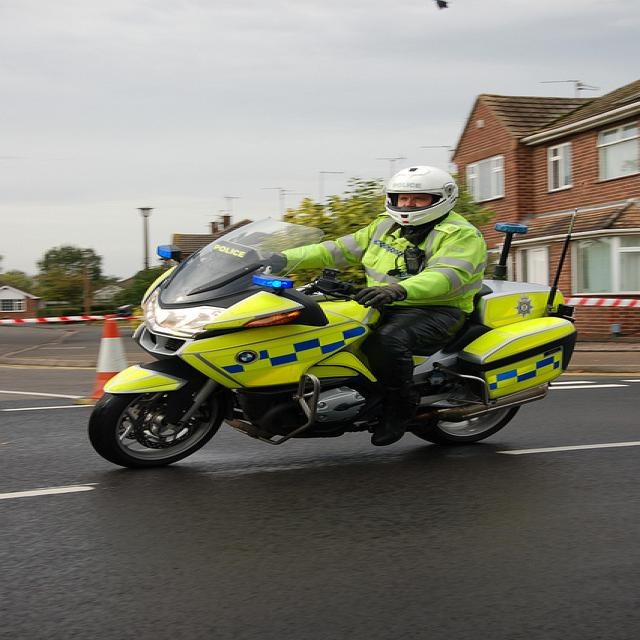motor: (90, 215, 581, 469)
